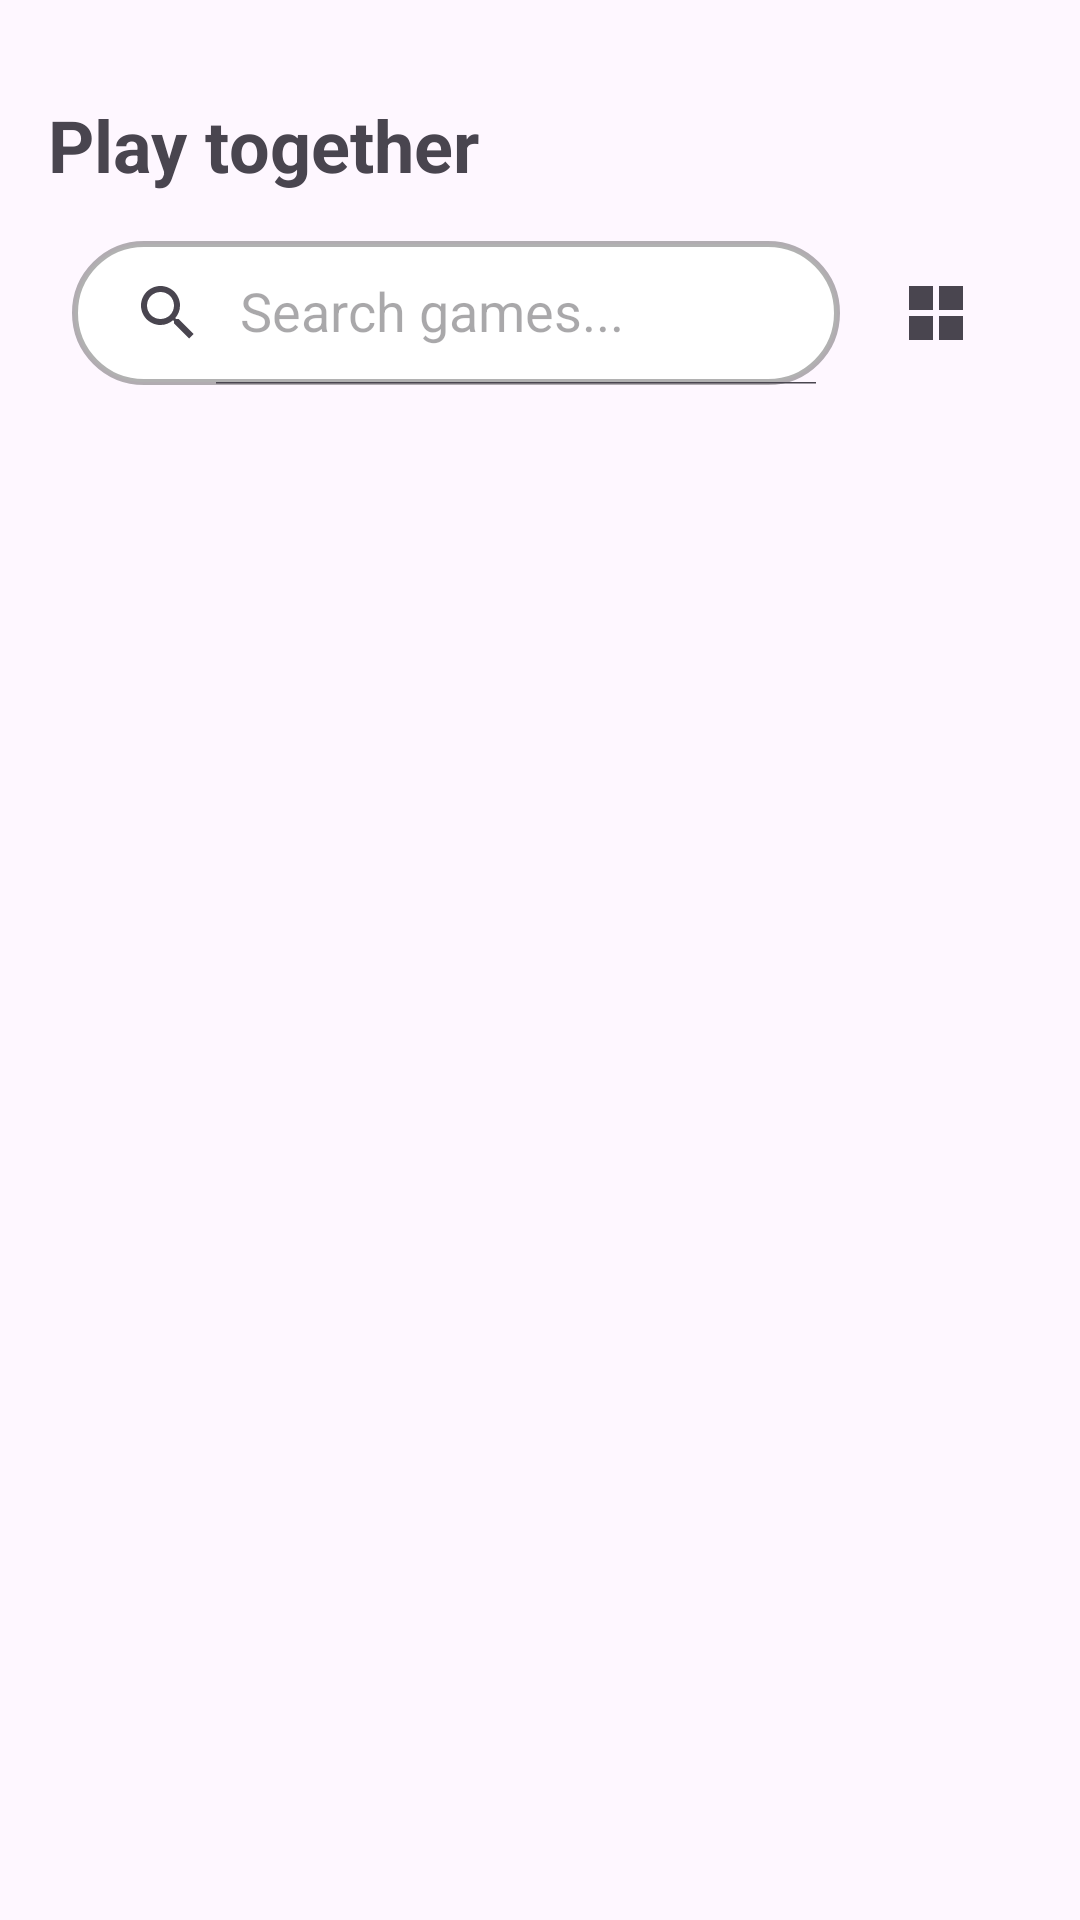

Where to tap for icons on this 1080px×1920px app screen, as (x,y):
Toggle Layout: (936,313)
